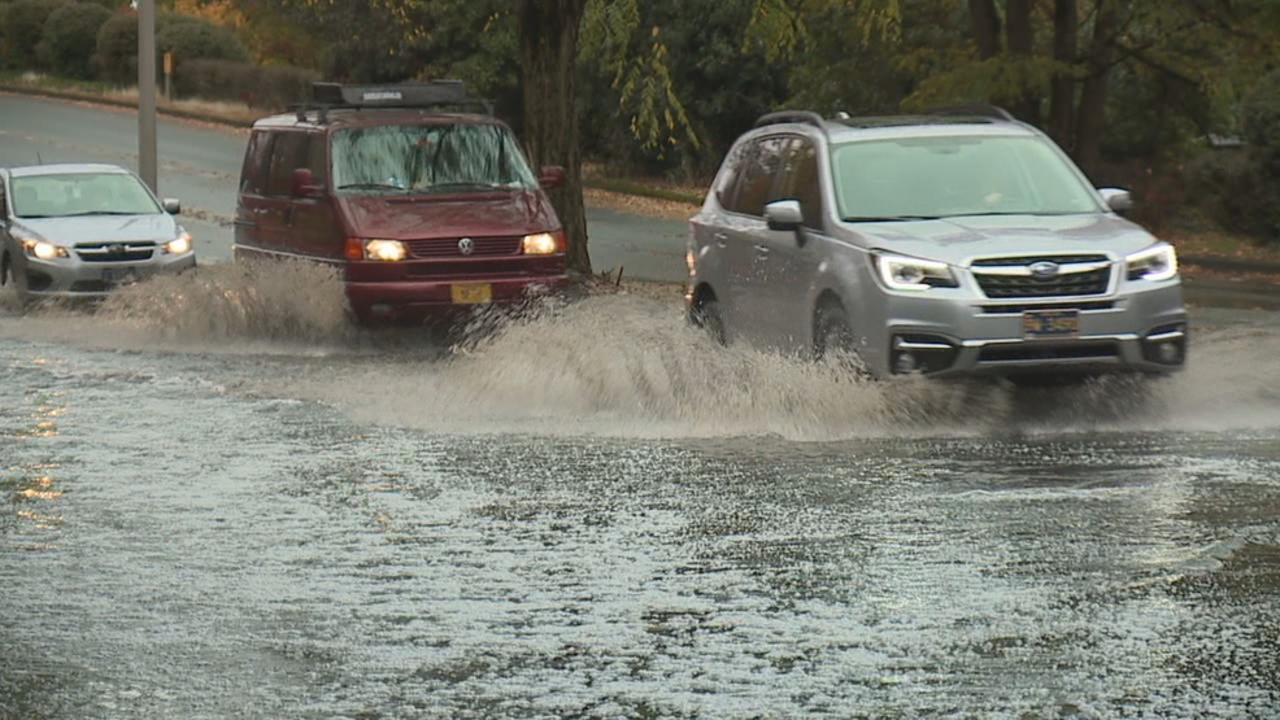car: (682, 105, 1199, 398), (236, 90, 568, 338), (0, 161, 196, 306)
